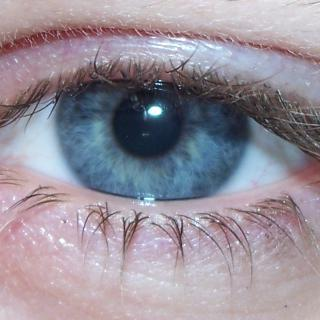pupil: (113, 90, 182, 158)
